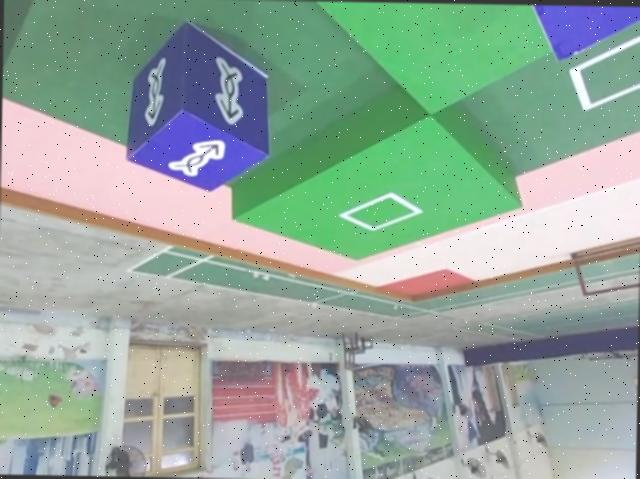R2 Real Blue: (127, 19, 274, 191)
